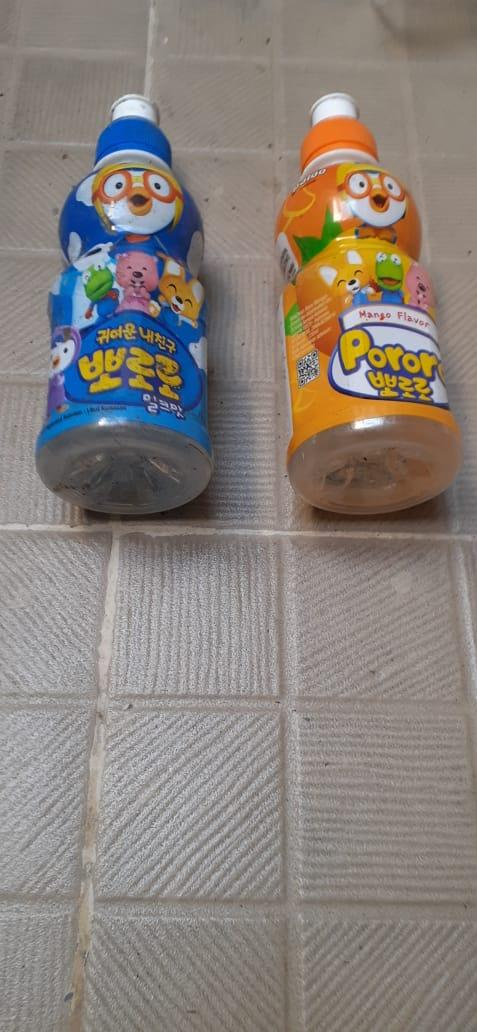Plastik: (275, 90, 465, 517), (36, 93, 217, 518)
